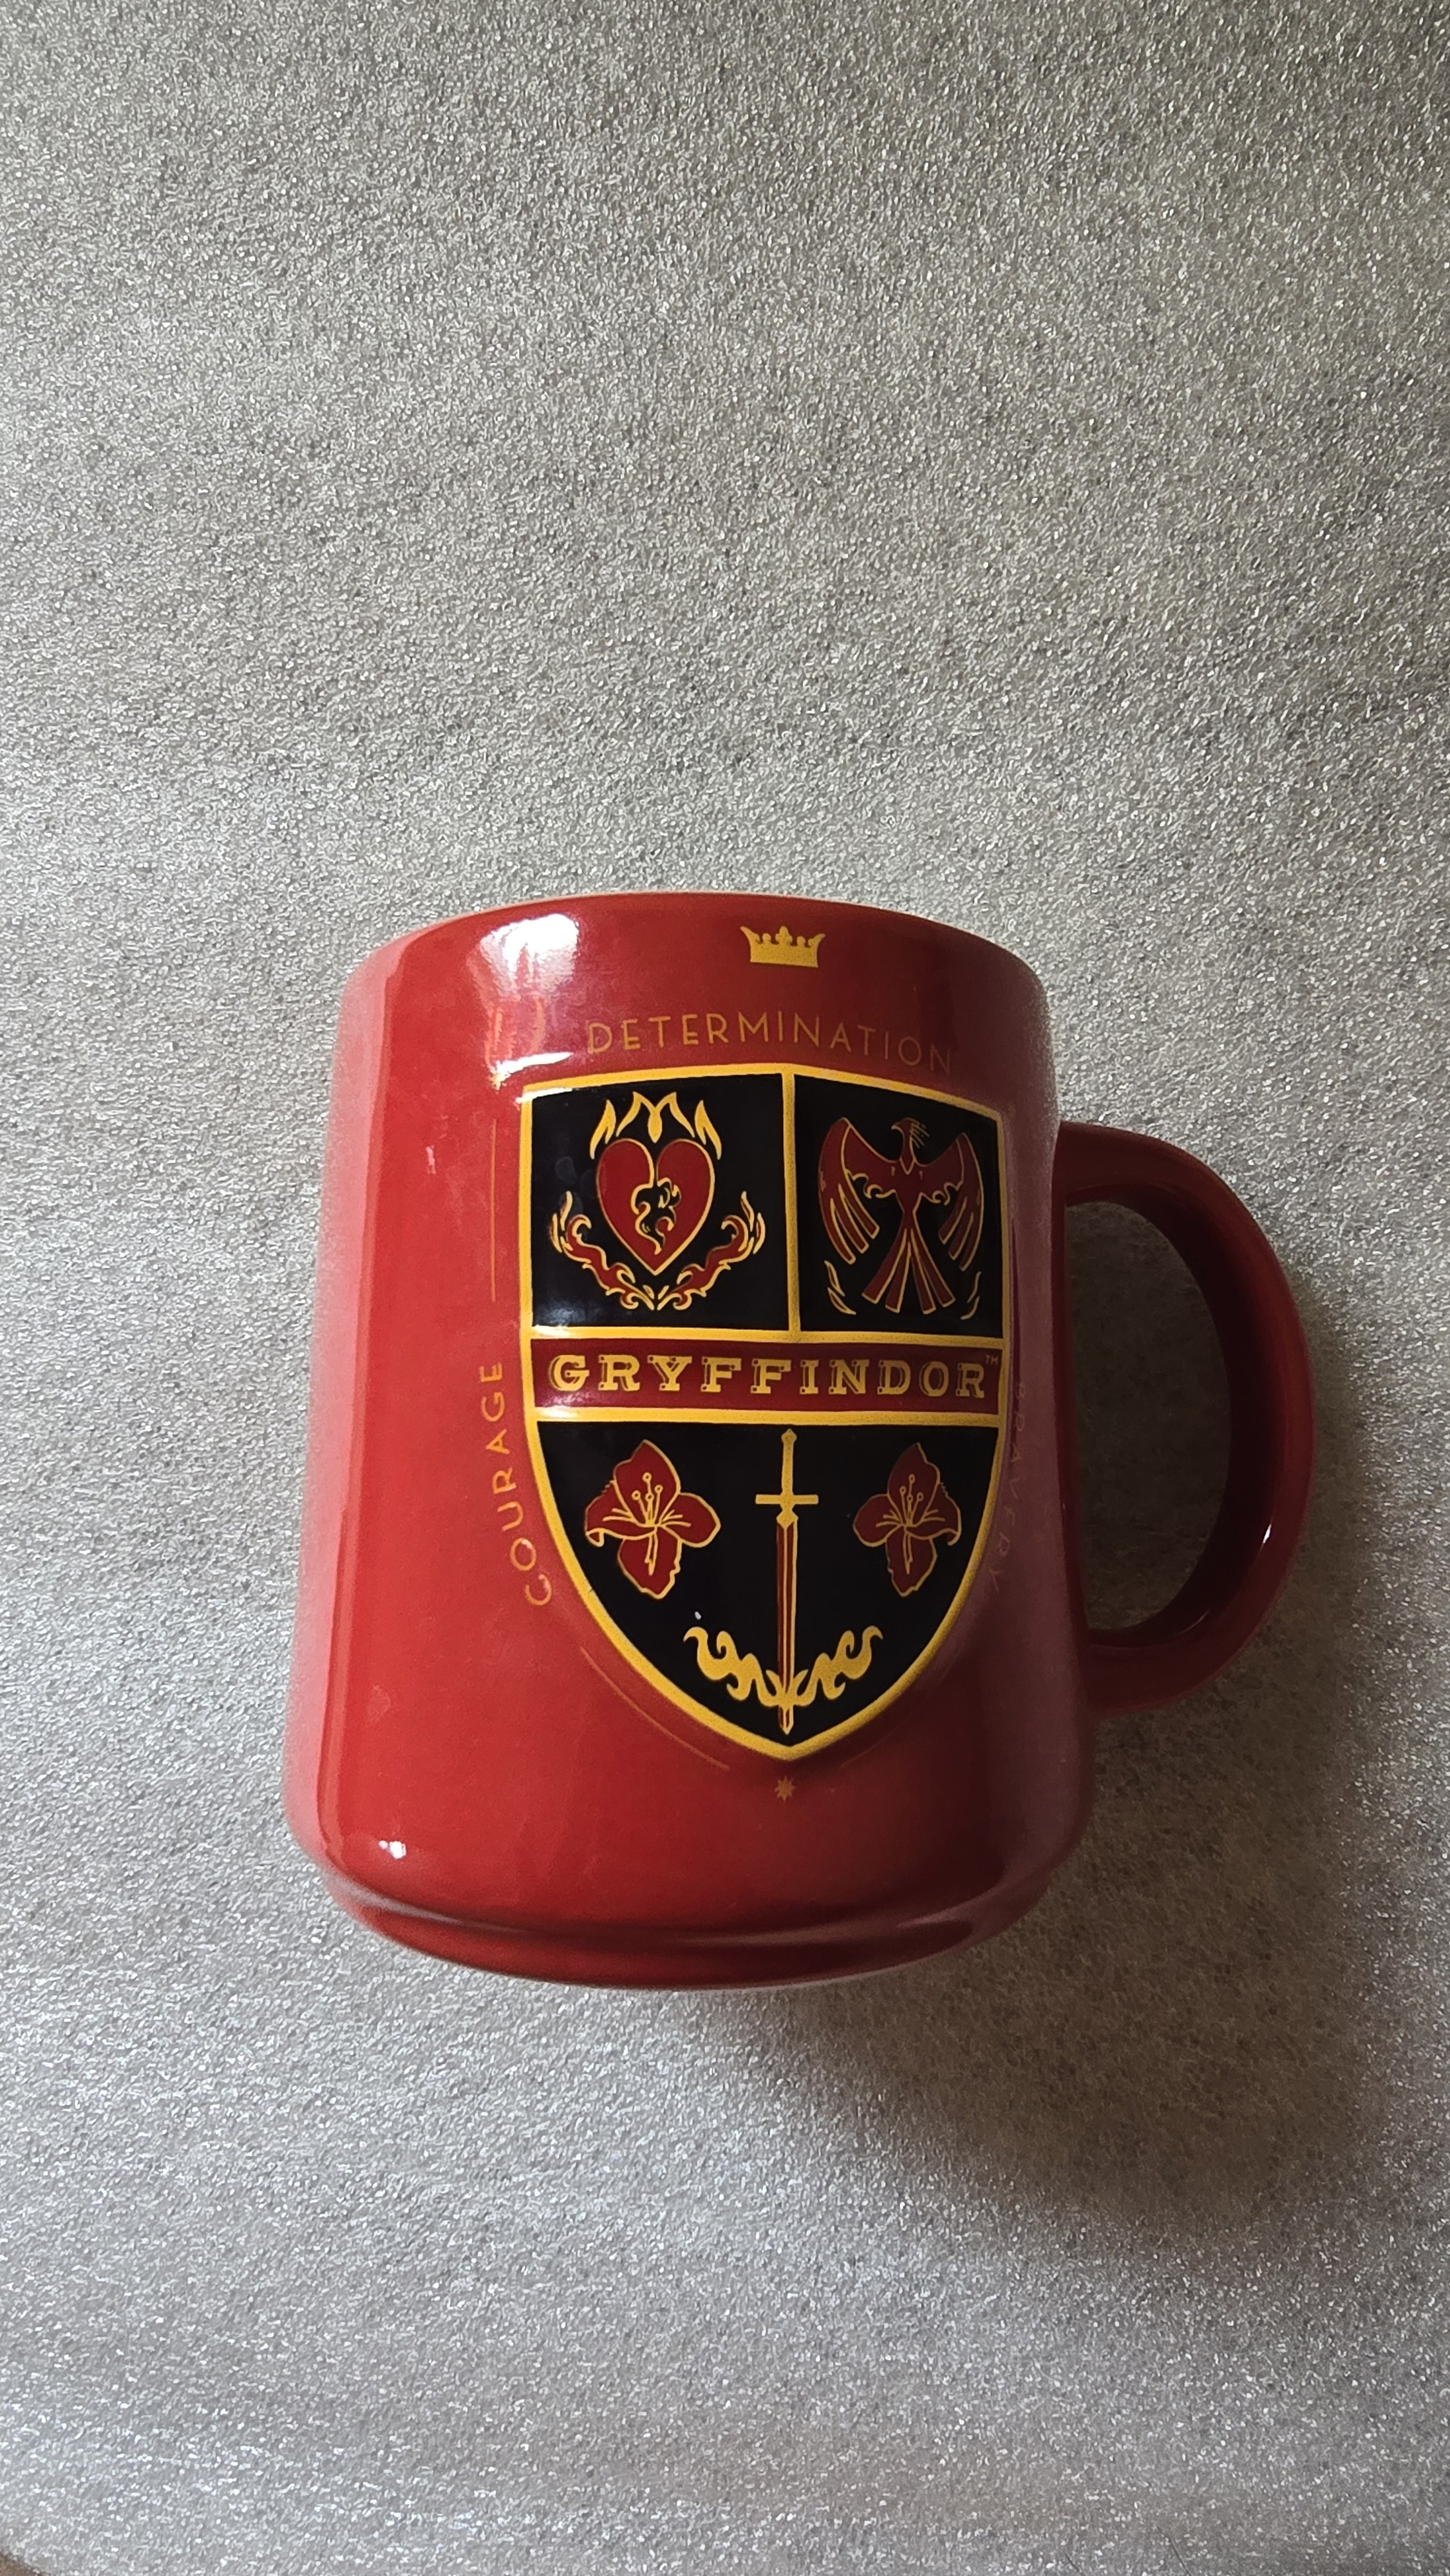mug: (288, 885, 1367, 2001)
